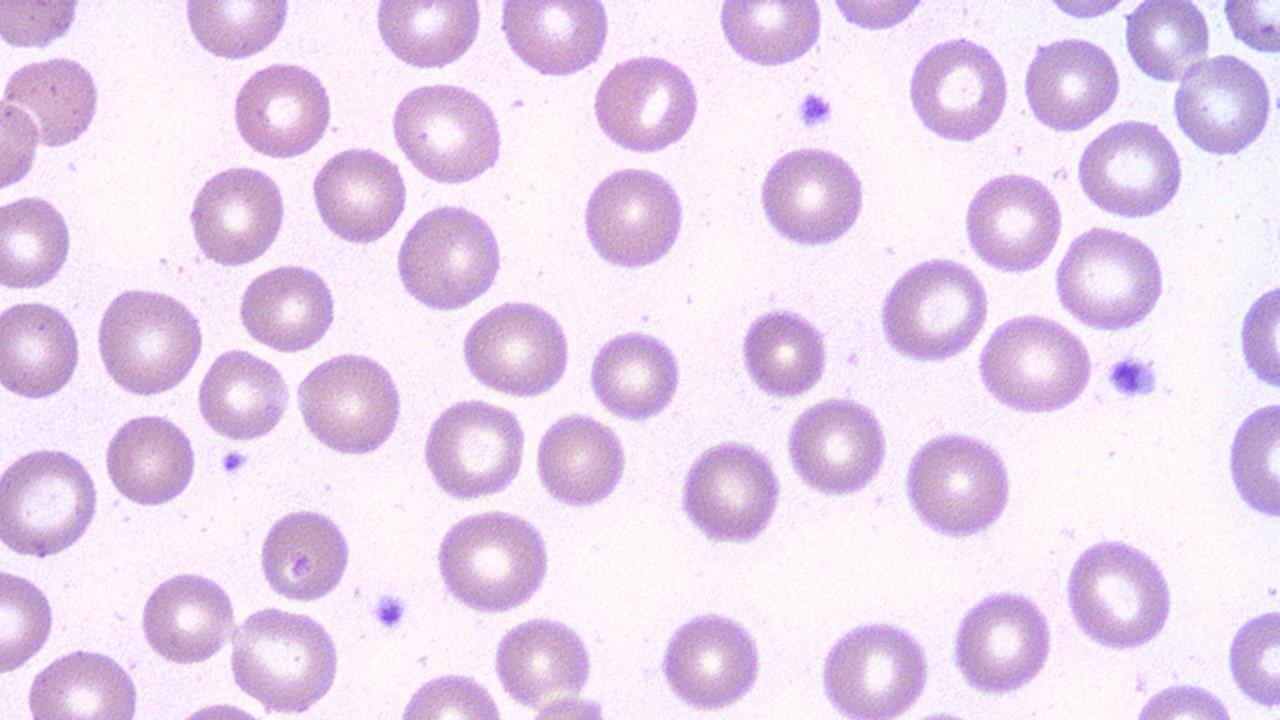Platelets: (1103, 352, 1161, 402), (795, 89, 836, 134), (371, 588, 410, 634), (218, 446, 251, 476)
RBC: (404, 276, 605, 412), (900, 424, 1018, 542), (1061, 534, 1179, 652), (224, 602, 345, 714), (431, 506, 554, 615), (91, 283, 206, 399), (388, 77, 508, 188), (672, 434, 786, 548), (393, 199, 507, 313), (1051, 223, 1169, 332), (975, 312, 1095, 418), (814, 613, 936, 717), (579, 162, 691, 274), (754, 141, 868, 251), (947, 584, 1057, 696), (878, 254, 990, 364), (294, 350, 406, 460), (590, 50, 704, 158), (903, 33, 1012, 145), (0, 443, 102, 561), (1168, 49, 1276, 160), (419, 396, 531, 502), (457, 298, 575, 398), (656, 609, 768, 713), (1074, 118, 1186, 222), (783, 392, 891, 498), (958, 168, 1066, 274), (184, 161, 288, 268), (227, 60, 337, 160), (2, 50, 106, 155), (492, 614, 600, 714), (308, 143, 408, 248), (1021, 33, 1123, 135), (137, 566, 238, 668), (586, 326, 688, 424), (254, 505, 354, 604), (532, 410, 630, 511), (101, 410, 199, 510), (193, 348, 294, 445), (737, 300, 832, 402), (236, 262, 340, 354), (0, 294, 84, 404), (496, 2, 609, 80), (21, 646, 145, 717), (369, 1, 482, 72), (0, 191, 75, 294), (716, 1, 826, 71), (1121, 3, 1209, 86), (1224, 394, 1280, 522), (0, 560, 59, 678), (1222, 594, 1280, 714), (179, 3, 294, 61), (1234, 270, 1280, 396), (396, 670, 510, 718), (1125, 678, 1245, 718), (1, 1, 85, 53), (0, 94, 42, 190), (822, 0, 935, 34), (1222, 2, 1278, 58), (1036, 0, 1132, 23)
